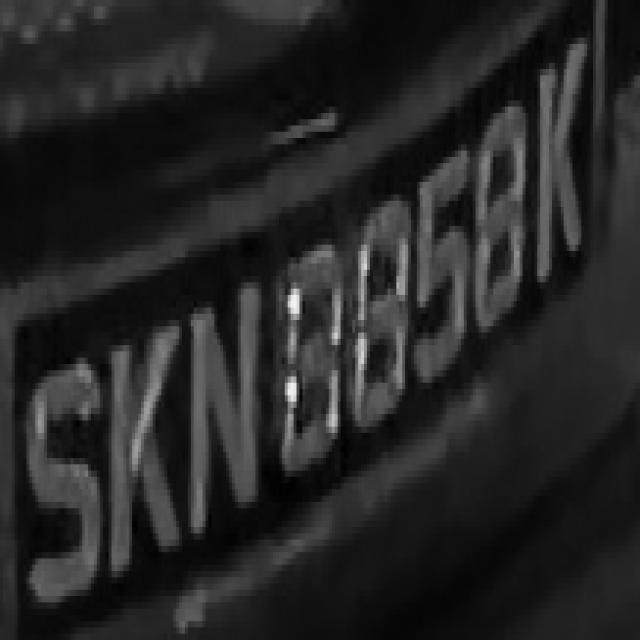5: (408, 144, 473, 408)
8: (467, 69, 534, 364), (276, 232, 352, 483), (352, 176, 408, 458)
K: (106, 307, 179, 590), (528, 31, 596, 302)
N: (179, 276, 270, 559)
S: (26, 332, 106, 615)
